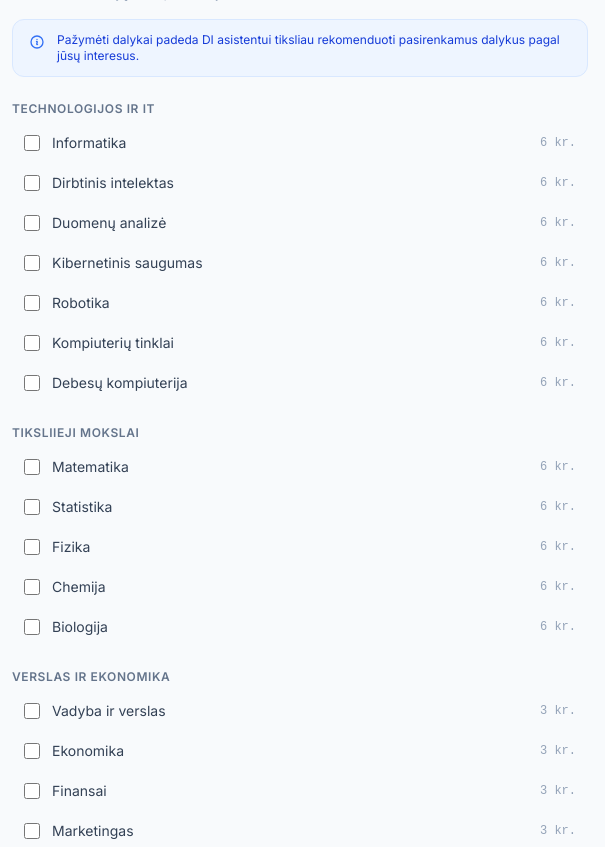
SCRUM-71, SCRUM-72: DominantSubjectsPage › rodomas klaidos pranešimas kai API grąžina klaidą
The image size is (605, 847).
Step 1. Click the checkbox labelled "Informatika 6 kr." → (32, 143), box x1=24 y1=135 x2=40 y2=151
(page scrolled)
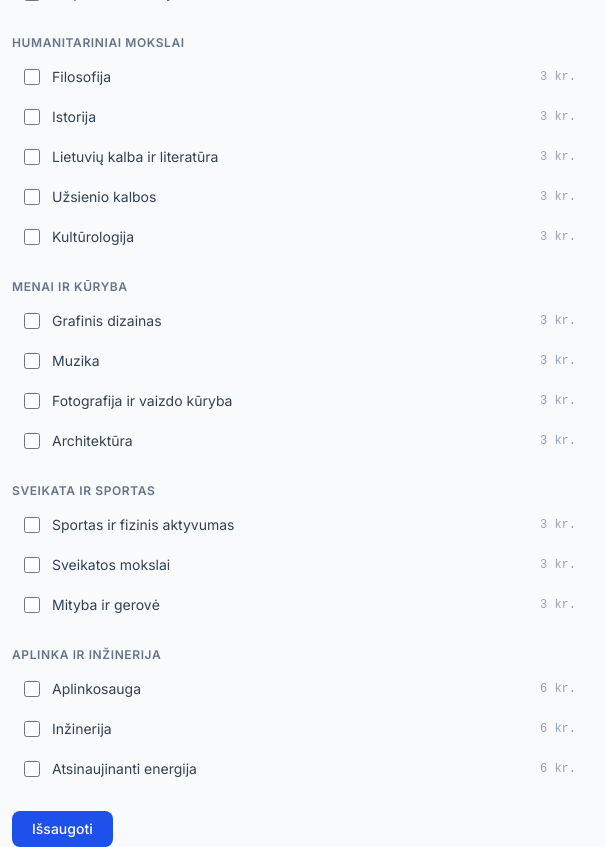
Step 2. Click the button "Išsaugoti" → (62, 829), box x1=12 y1=811 x2=113 y2=846
(page scrolled)
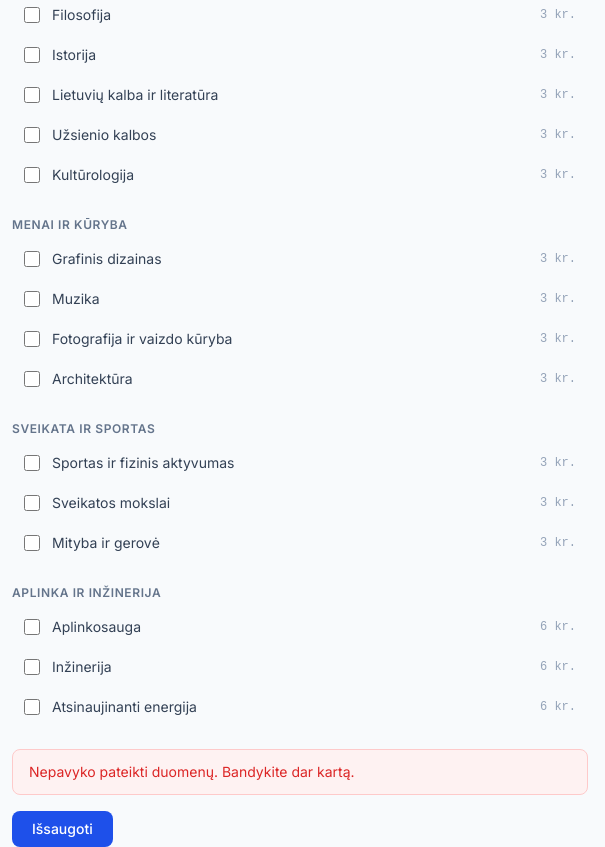
Expected: the text "Nepavyko pateikti duomenų. Bandykite dar kartą." is shown, x1=12 y1=749 x2=588 y2=795
